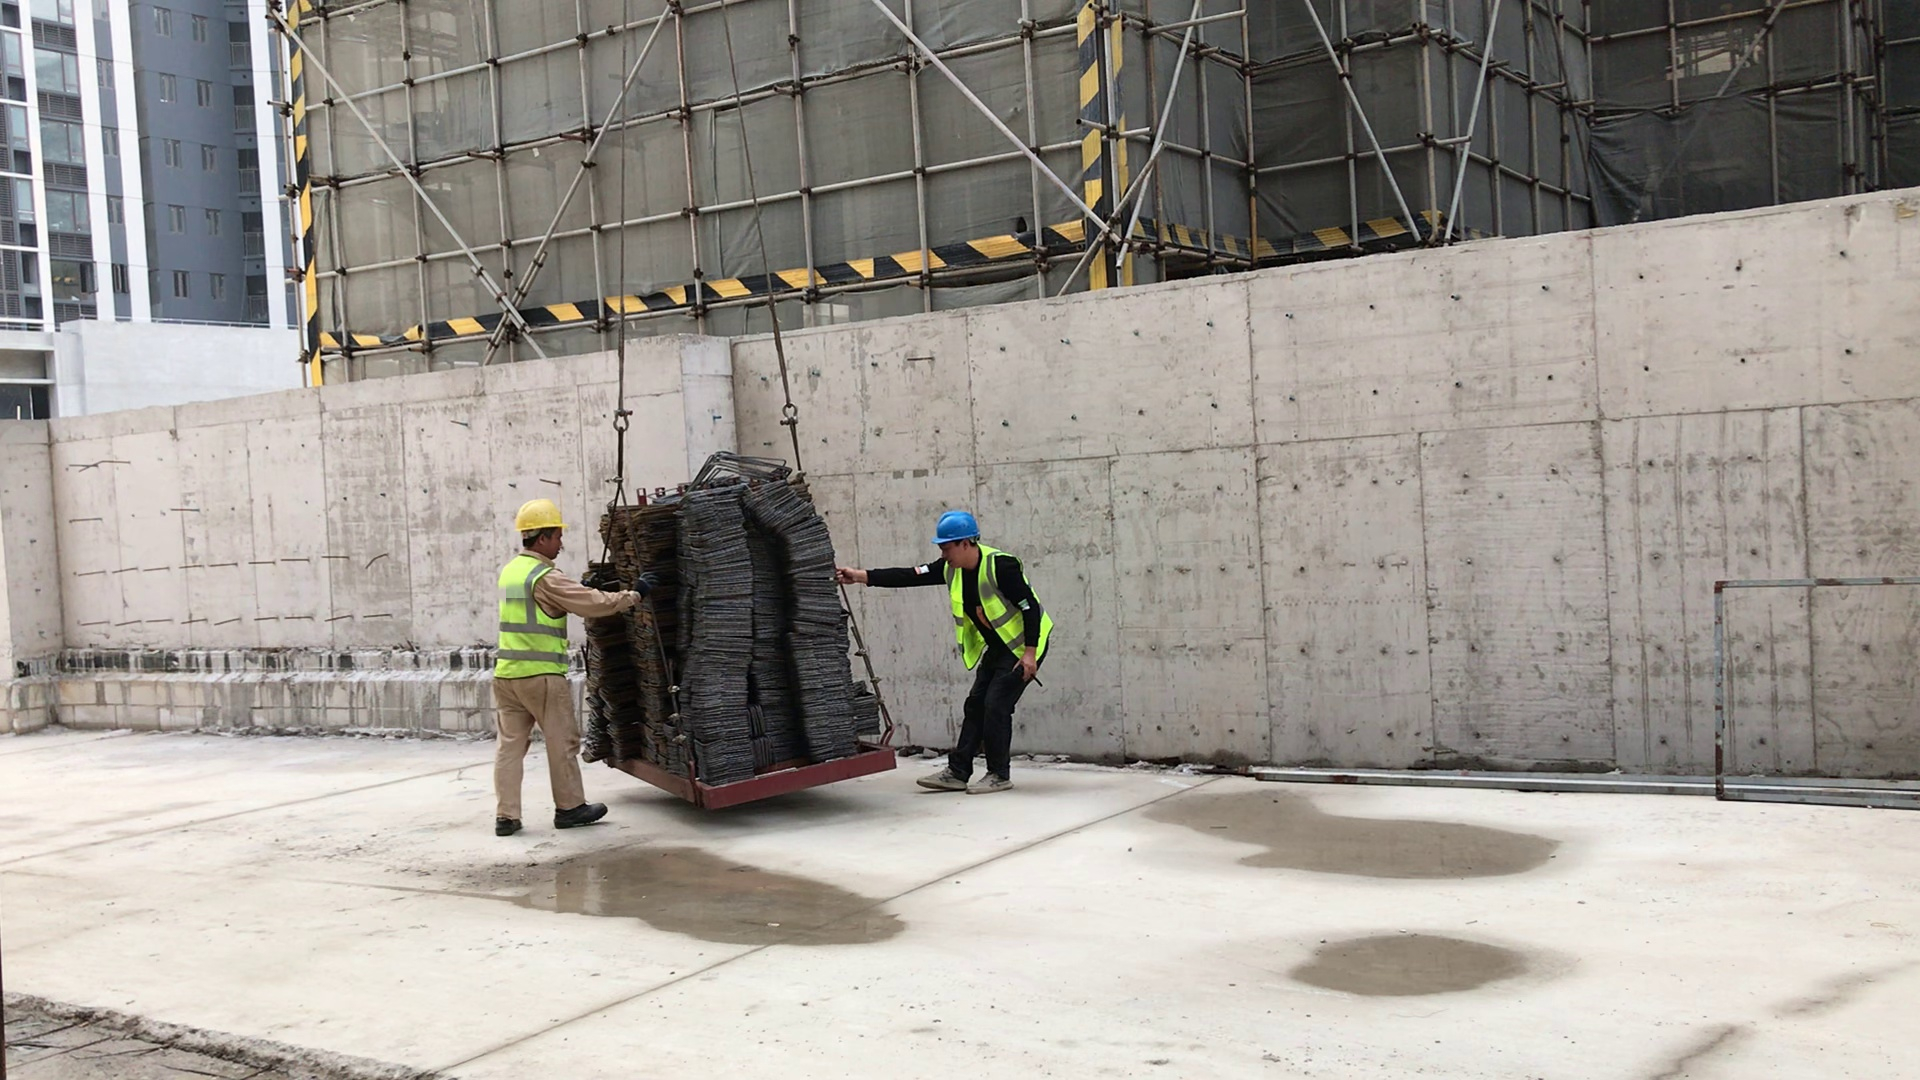helmet: (508, 495, 568, 542), (923, 505, 994, 539)
person: (850, 490, 1056, 801), (498, 492, 612, 842)
vest: (935, 556, 1042, 662), (499, 550, 575, 675)
